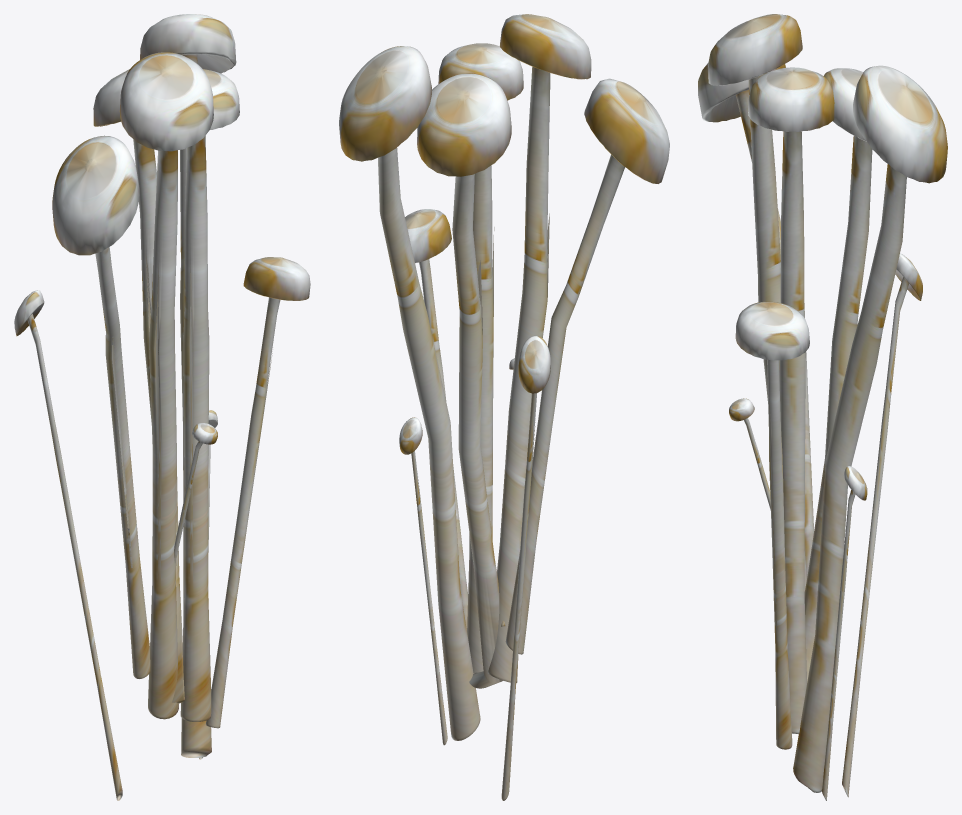
Rendered from enokiMesh.fbx.
3 views of the same model, side by side, from view 1: azimuth 30°, elevation 25°; view 2: azimuth 150°, elevation 25°; view 3: azimuth 270°, elevation 25° (orthographic). The views are drawn at different scales.
Parts seen in each view (by area): view 1: Poly.001, Poly.002, Poly.003, Poly.007, Poly.004, Poly, Poly.008, Poly.009; view 2: Poly.004, Poly, Poly.001, Poly.003, Poly.002, Poly.008, Poly.007, Poly.005; view 3: Poly.004, Poly.002, Poly.001, Poly, Poly.007, Poly.008, Poly.003, Poly.005, Poly.009.
Boxes of the visible parts, x1,y1,x2,y2 form: Poly.001: (119,52,213,719); Poly.002: (180,69,239,721); Poly.003: (52,135,150,678); Poly.007: (205,257,310,728); Poly.004: (140,14,236,757); Poly: (93,69,184,703); Poly.008: (14,290,122,800); Poly.009: (174,423,217,563); Poly.004: (339,46,480,740); Poly: (417,73,511,688); Poly.001: (488,14,591,682); Poly.003: (505,78,669,654); Poly.002: (438,43,523,672); Poly.008: (501,335,550,800); Poly.007: (405,209,467,629); Poly.005: (399,417,447,745); Poly.004: (793,65,947,792); Poly.002: (748,67,834,733); Poly.001: (708,14,807,590); Poly: (804,68,872,682); Poly.007: (735,301,809,749); Poly.008: (842,253,922,797); Poly.003: (698,63,813,576); Poly.005: (822,466,867,800); Poly.009: (729,398,770,510).
Bounding box in the file's own units: 228 × 644 × 186.
